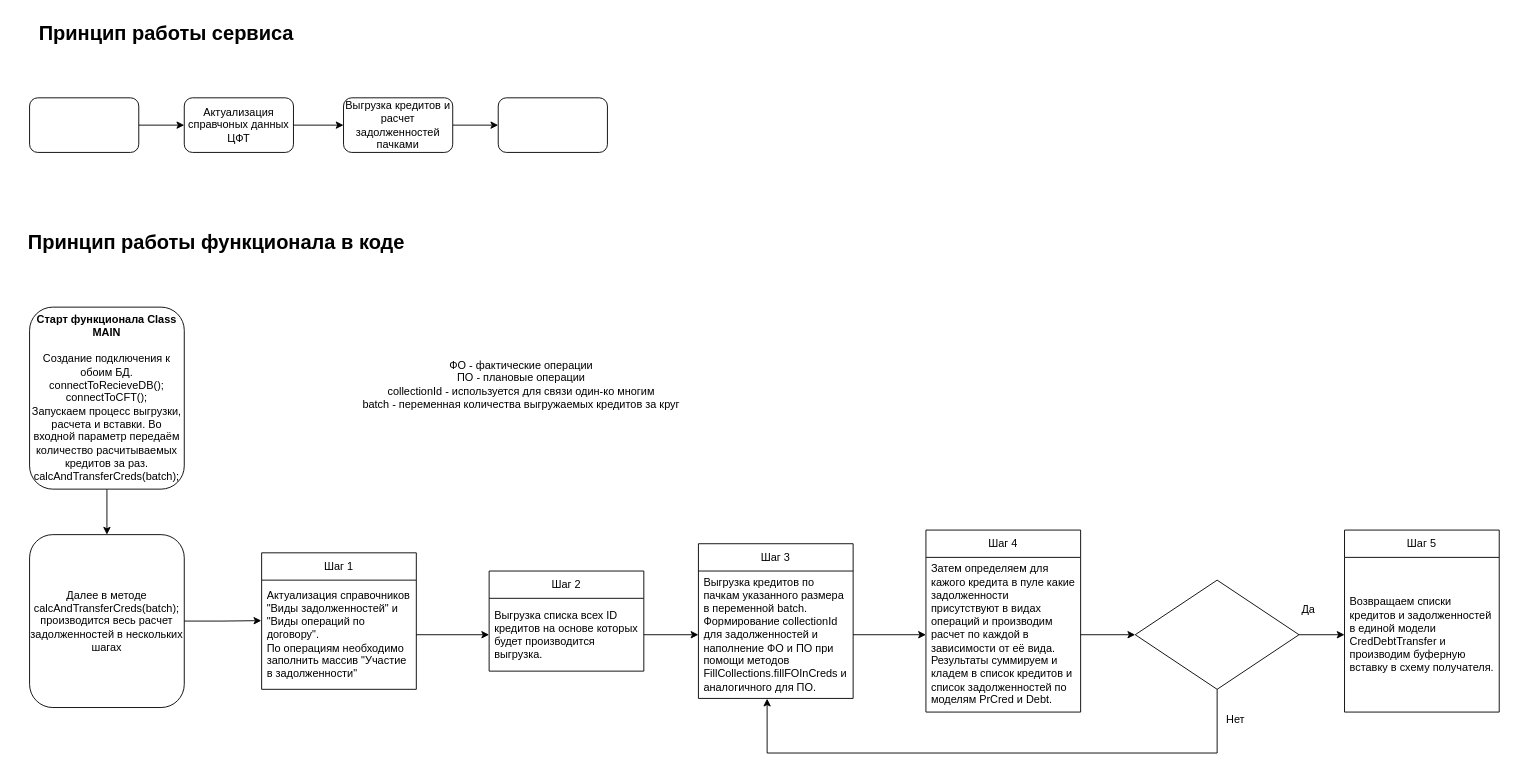
The diagram is 1515 pixels wide and 776 high, and some of its shapes have lost their labels. Here are the shapes that lost their labels. From the top down, the centre of each, then its label:
At point (84, 124): "Подключение к ЦФТ".
At point (552, 124): "Вставка общих значений в БД получателя".
At point (1216, 634): "Все кредиты из списка ID кредитов выгружены".
